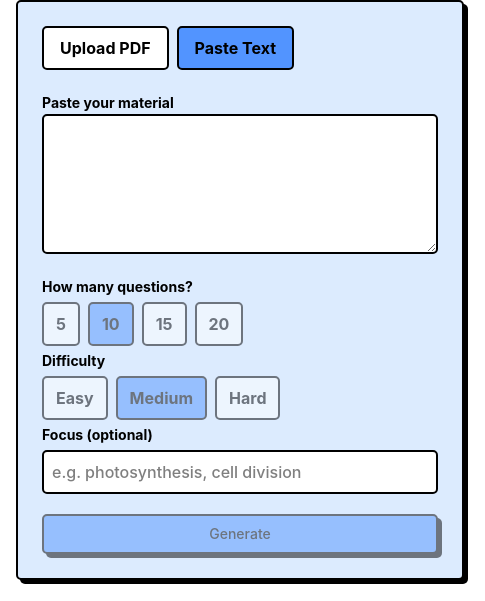
SetupScreen › switching tabs hides the other tab's input, in both directions
Expected: the text box labelled "Paste your material" is shown, [42,114,438,254]
Expected: the field labelled "drop a pdf" is not shown
Click the tab "Upload PDF": (105, 48) [42,26,169,70]
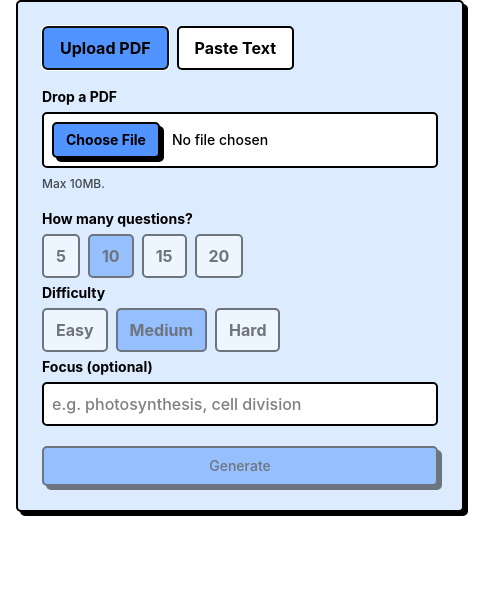
Expected: the file field labelled "Drop a PDF" is shown, [42,112,438,168]
Expected: the label labelled "Paste your material" is gone
Click the tab "Paste Text": (235, 48) [177,26,294,70]
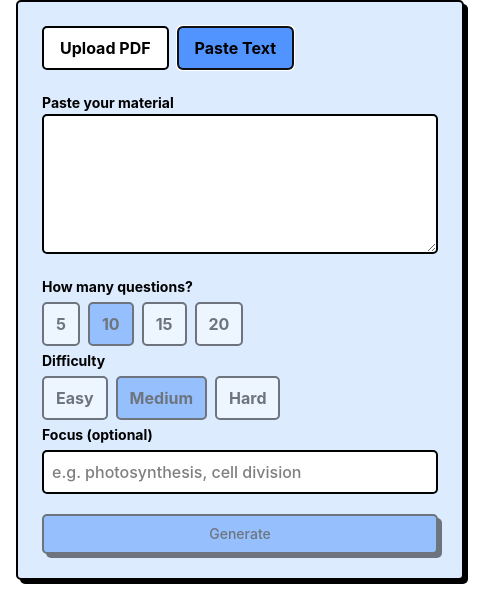
Expected: the text box labelled "Paste your material" is shown, [42,114,438,254]
Expected: the label labelled "Drop a PDF" is gone
